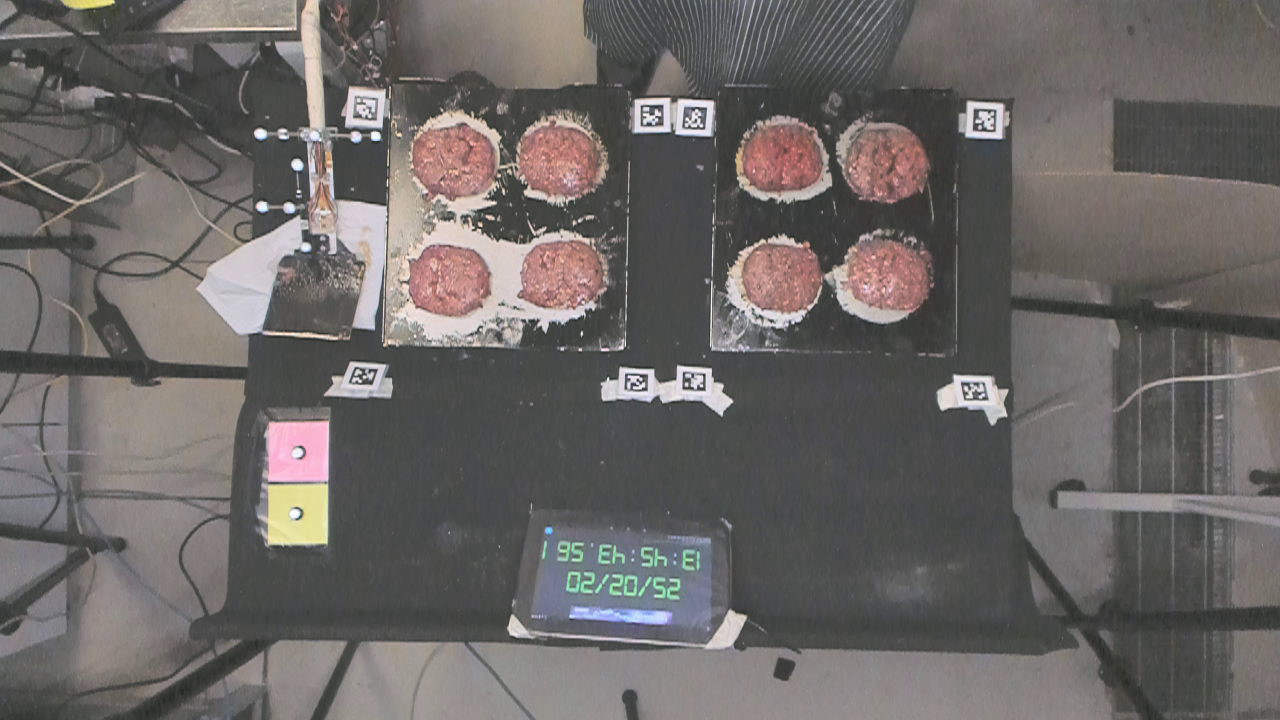hamburger: (520, 119, 603, 202), (847, 237, 932, 314), (416, 122, 495, 200), (408, 242, 490, 317), (850, 124, 929, 200), (745, 240, 823, 314), (522, 245, 604, 311), (739, 123, 821, 189)
marker: (268, 422, 329, 481)
